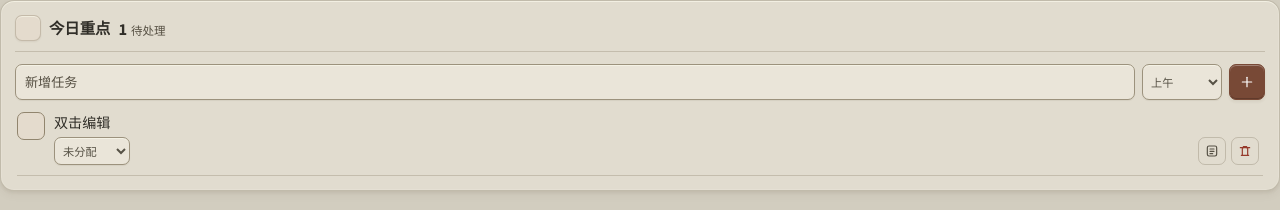
TaskList › starts inline editing when the task title is double-clicked
The image size is (1280, 210).
Double-click the text "双击编辑" at (82, 122), box [54, 112, 110, 132]
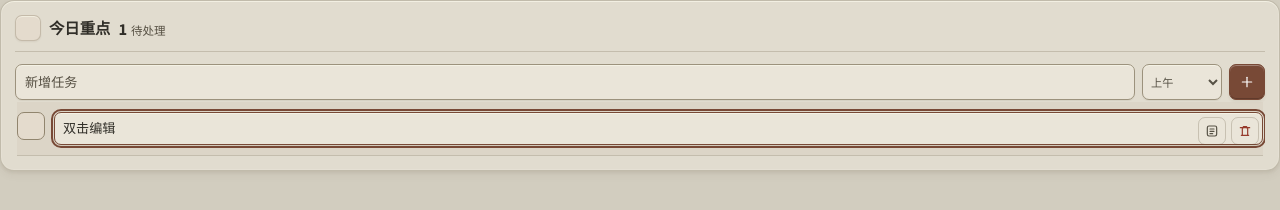
Result: the field named "编辑任务内容" holds "双击编辑" at [54, 112, 1263, 145]
